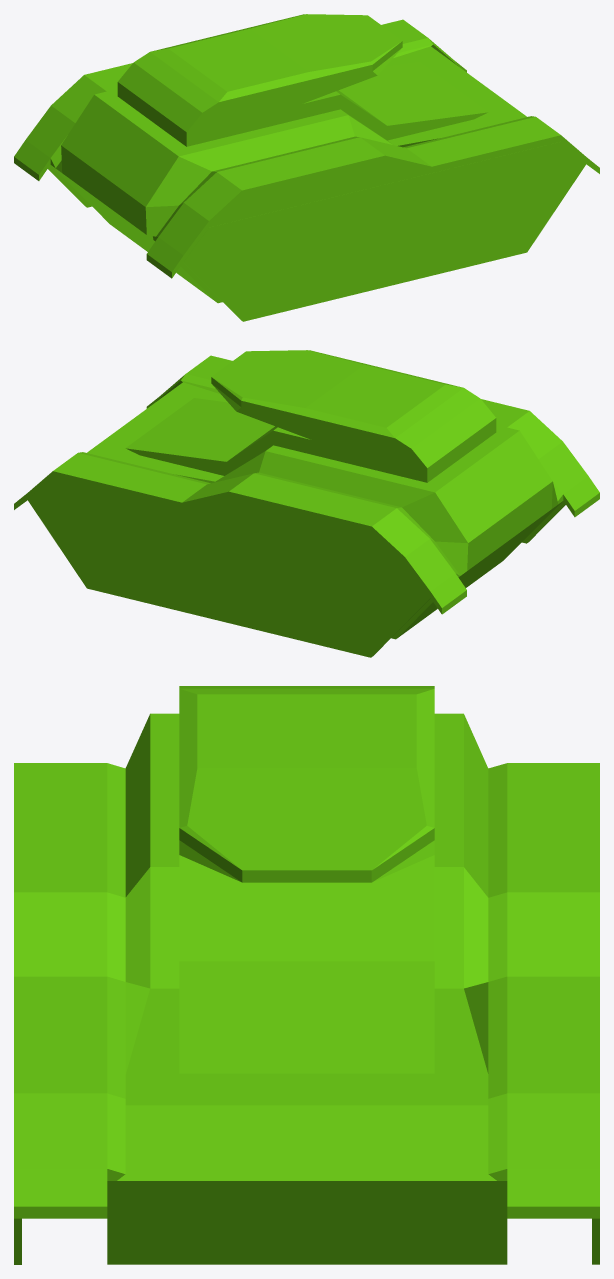
The model's file is tank_body.obj.
3 renders of one model, top to bottom at view 1: azimuth 30°, elevation 25°; view 2: azimuth 150°, elevation 25°; view 3: azimuth 270°, elevation 25°, orthographic. The views are drawn at different scales.
Parts seen in each view (by area): view 1: Body; view 2: Body; view 3: Body.
Boxes of the visible parts, x1=… form: Body: x1=14, y1=14, x2=599, y2=321; Body: x1=14, y1=350, x2=599, y2=657; Body: x1=14, y1=686, x2=599, y2=1264.
Size of the model in its own units: 1.93 by 0.7989 by 1.23.
